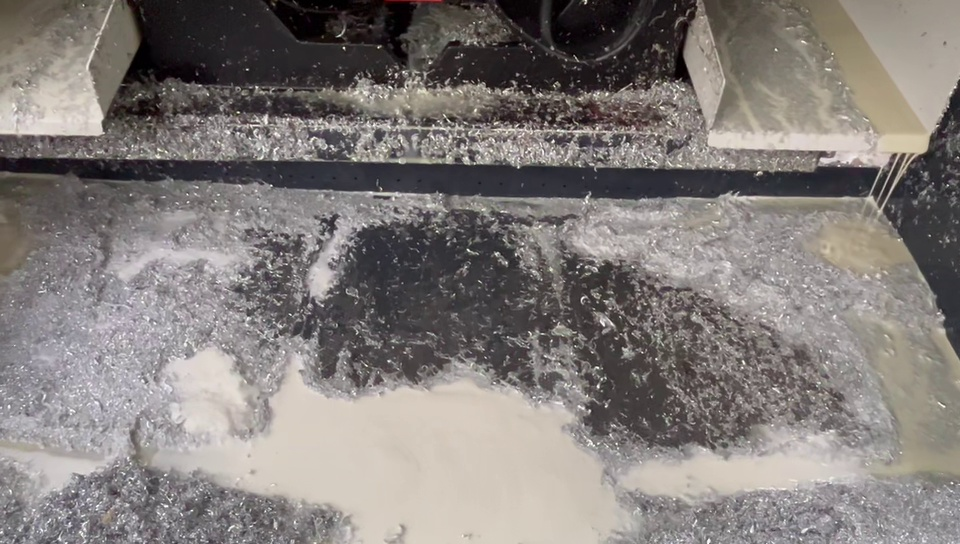iron_scrap: (119, 88, 698, 164), (5, 183, 165, 454), (570, 201, 935, 316), (1, 463, 348, 544), (623, 478, 959, 543), (166, 273, 325, 381), (169, 185, 354, 267), (785, 321, 895, 451)
